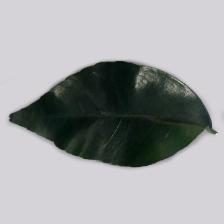healthy: (12, 60, 211, 168)
